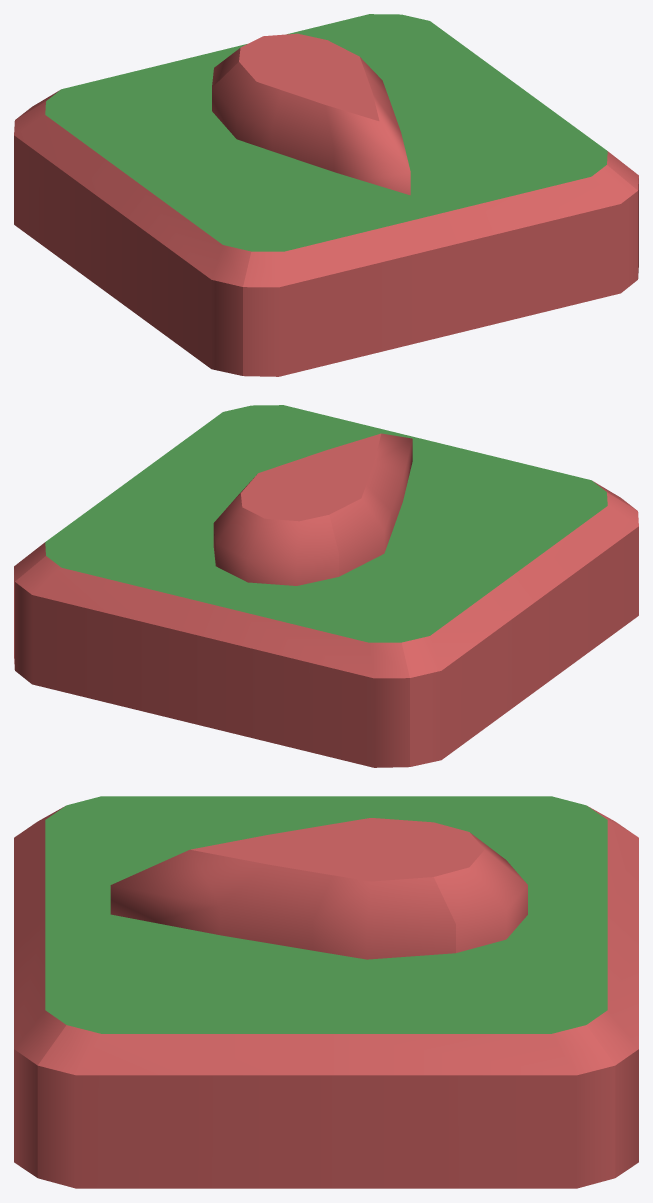
File: Tile_Seed.fbx
The picture shows the model from 3 angles, top to bottom: view 1: azimuth 30°, elevation 25°; view 2: azimuth 150°, elevation 25°; view 3: azimuth 270°, elevation 25°; orthographic projection. The views are drawn at different scales.
Parts seen in each view (by area): view 1: seedTile, pCube17; view 2: seedTile, pCube17; view 3: seedTile, pCube17.
Part boxes in pixels (x1=…): seedTile: x1=14, y1=14, x2=638, y2=376; pCube17: x1=212, y1=33, x2=410, y2=195; seedTile: x1=14, y1=405, x2=638, y2=767; pCube17: x1=213, y1=433, x2=412, y2=585; seedTile: x1=14, y1=796, x2=638, y2=1188; pCube17: x1=110, y1=818, x2=527, y2=959.
Size of the model in its own units: 0.3937 by 0.1435 by 0.3937.
